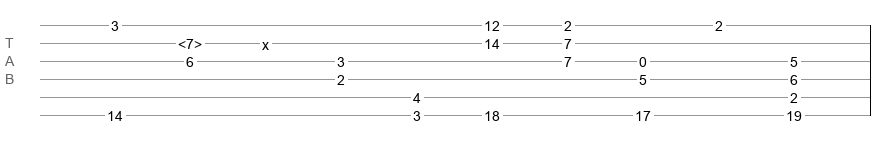0: (639, 54, 647, 64)
12: (484, 18, 500, 28)
14: (107, 108, 123, 118), (484, 36, 500, 46)
17: (635, 108, 651, 118)
18: (484, 108, 500, 118)
19: (786, 108, 802, 118)
2: (337, 72, 345, 82), (564, 18, 572, 28), (715, 18, 723, 28), (790, 90, 798, 100)
3: (111, 18, 119, 28), (337, 54, 345, 64), (413, 108, 421, 118)
4: (413, 90, 421, 100)
5: (639, 72, 647, 82), (790, 54, 798, 64)
6: (186, 54, 194, 64), (790, 72, 798, 82)
7: (564, 36, 572, 46), (564, 54, 572, 64)
harmonic: (178, 36, 202, 46)
x: (262, 37, 269, 45)
